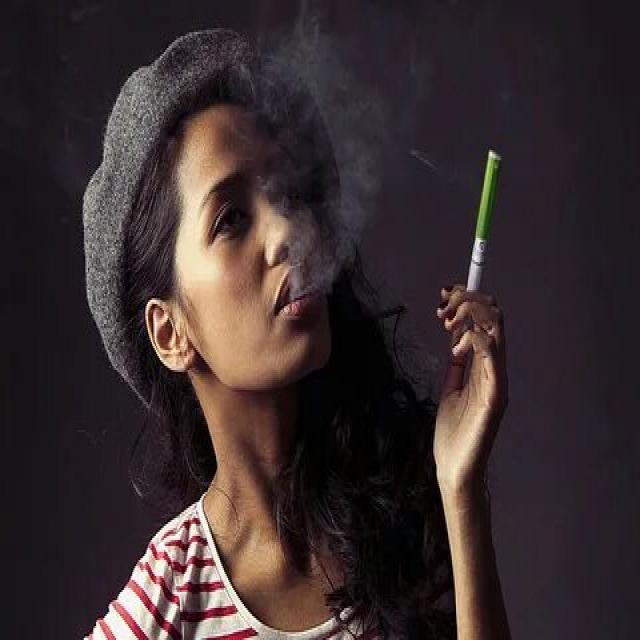smoke: (457, 144, 504, 306)
